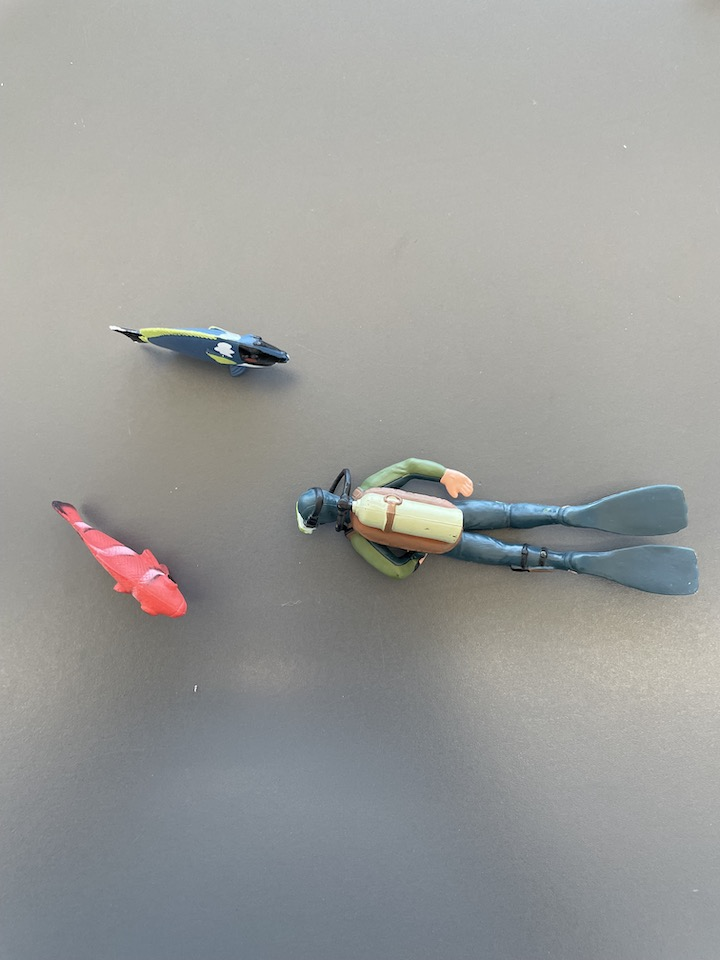diver: (284, 455, 704, 603)
fish: (47, 490, 196, 626), (101, 320, 298, 382)
